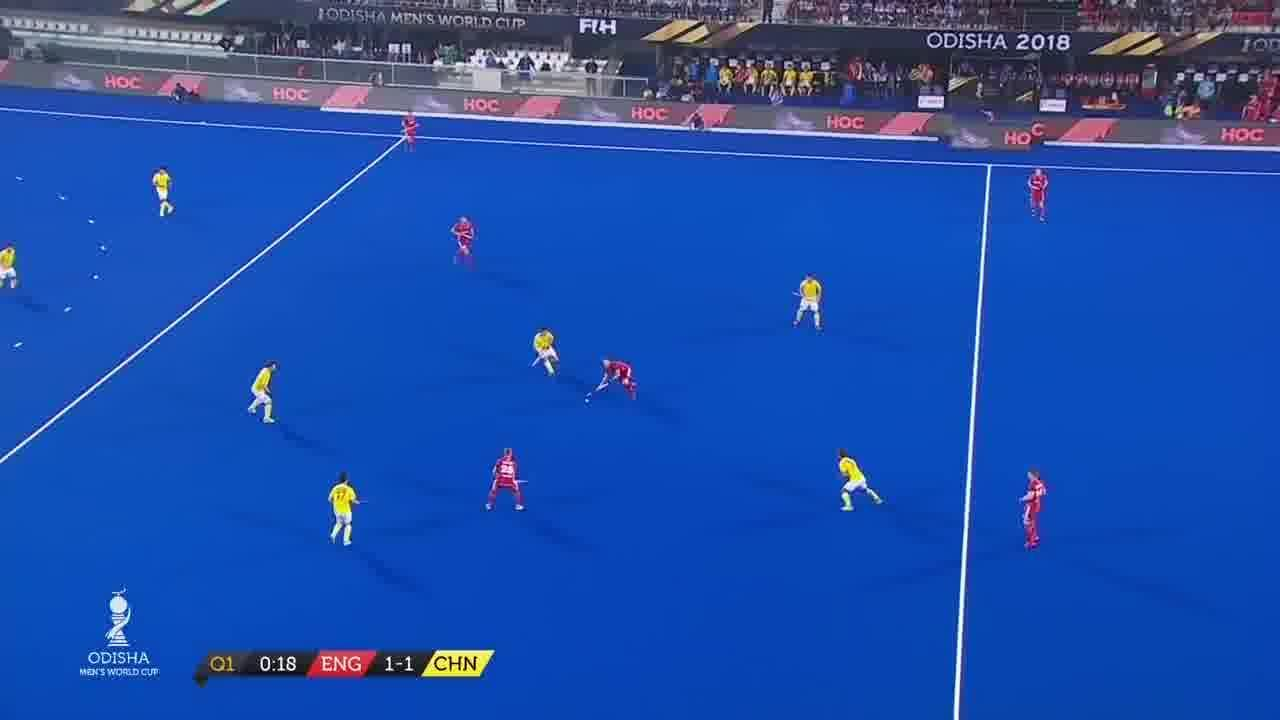ball: (580, 396, 594, 408)
